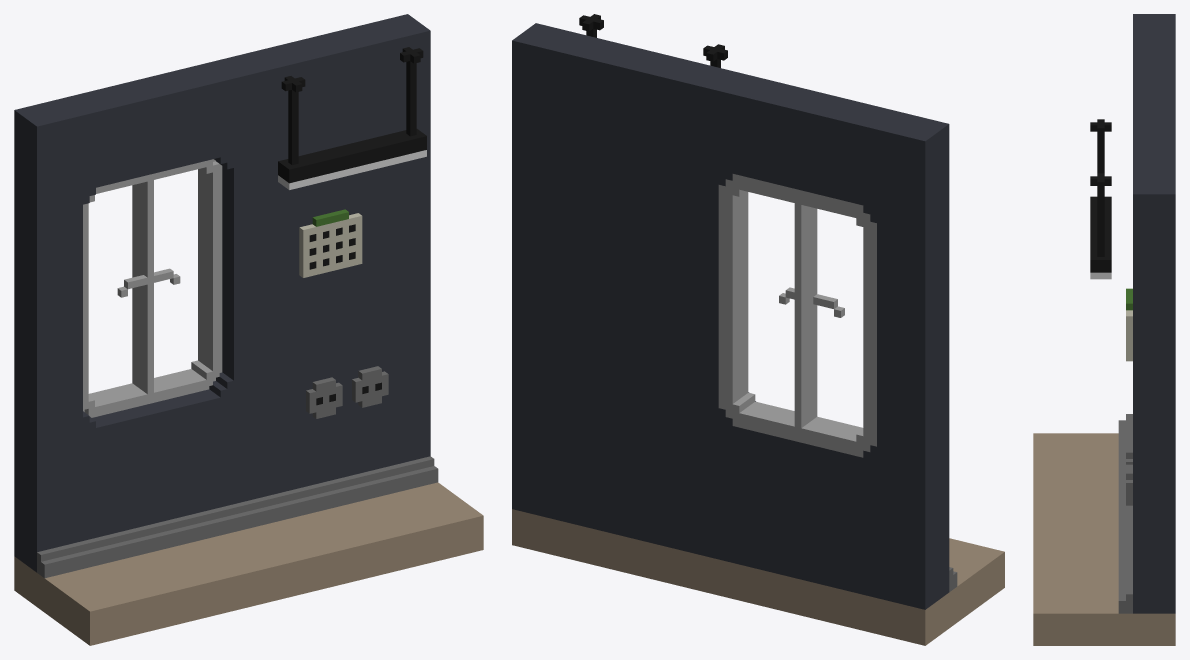
The model's file is whole.obj.
3 views of the same model, side by side, from view 1: azimuth 30°, elevation 25°; view 2: azimuth 150°, elevation 25°; view 3: azimuth 270°, elevation 25° (orthographic). The views are drawn at different scales.
Bounding box in the file's own units: 6 × 7 × 2.
Materials: 1 (1 with a texture image).
